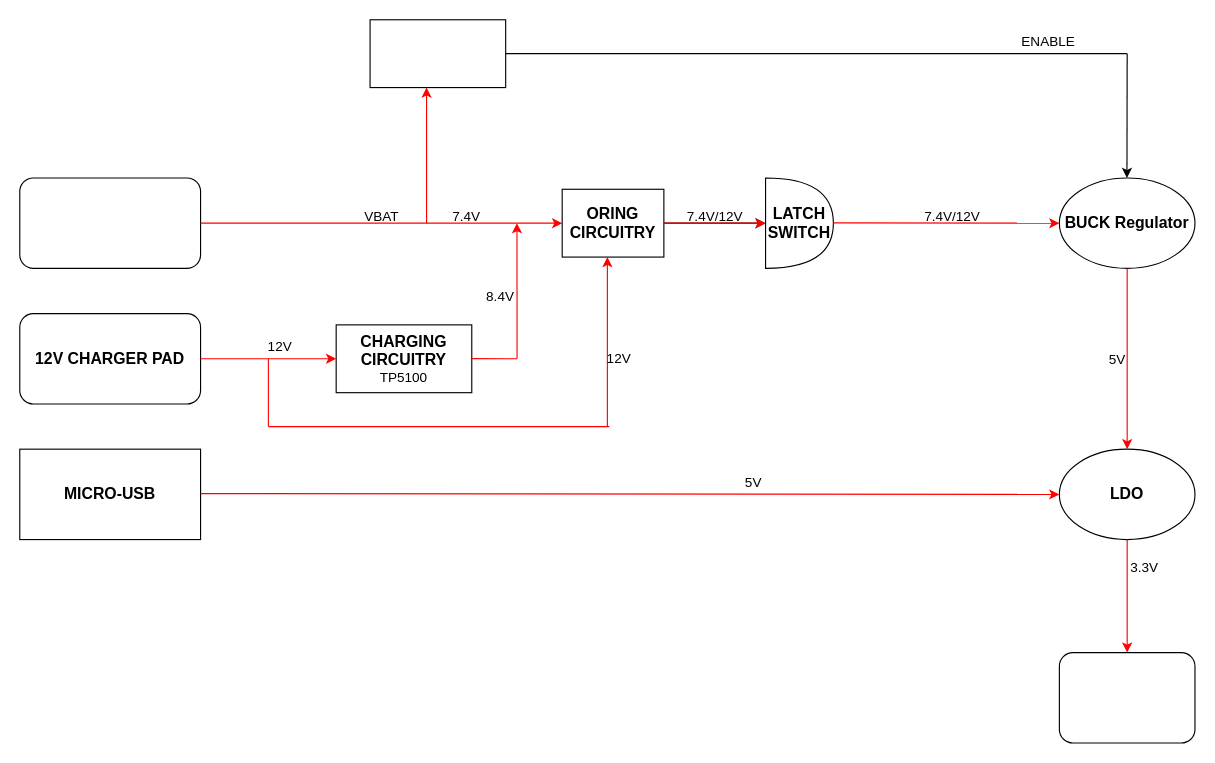
This 1215x763 diagram has some shape labels left out. Here are the shapes that lost their labels. From the top down, the centre of each, then its label:
pixel 437 53: Low Voltage Detection
pixel 110 222: Battery 7.4V 10Ah 74Wh
pixel 1126 697: MCU
